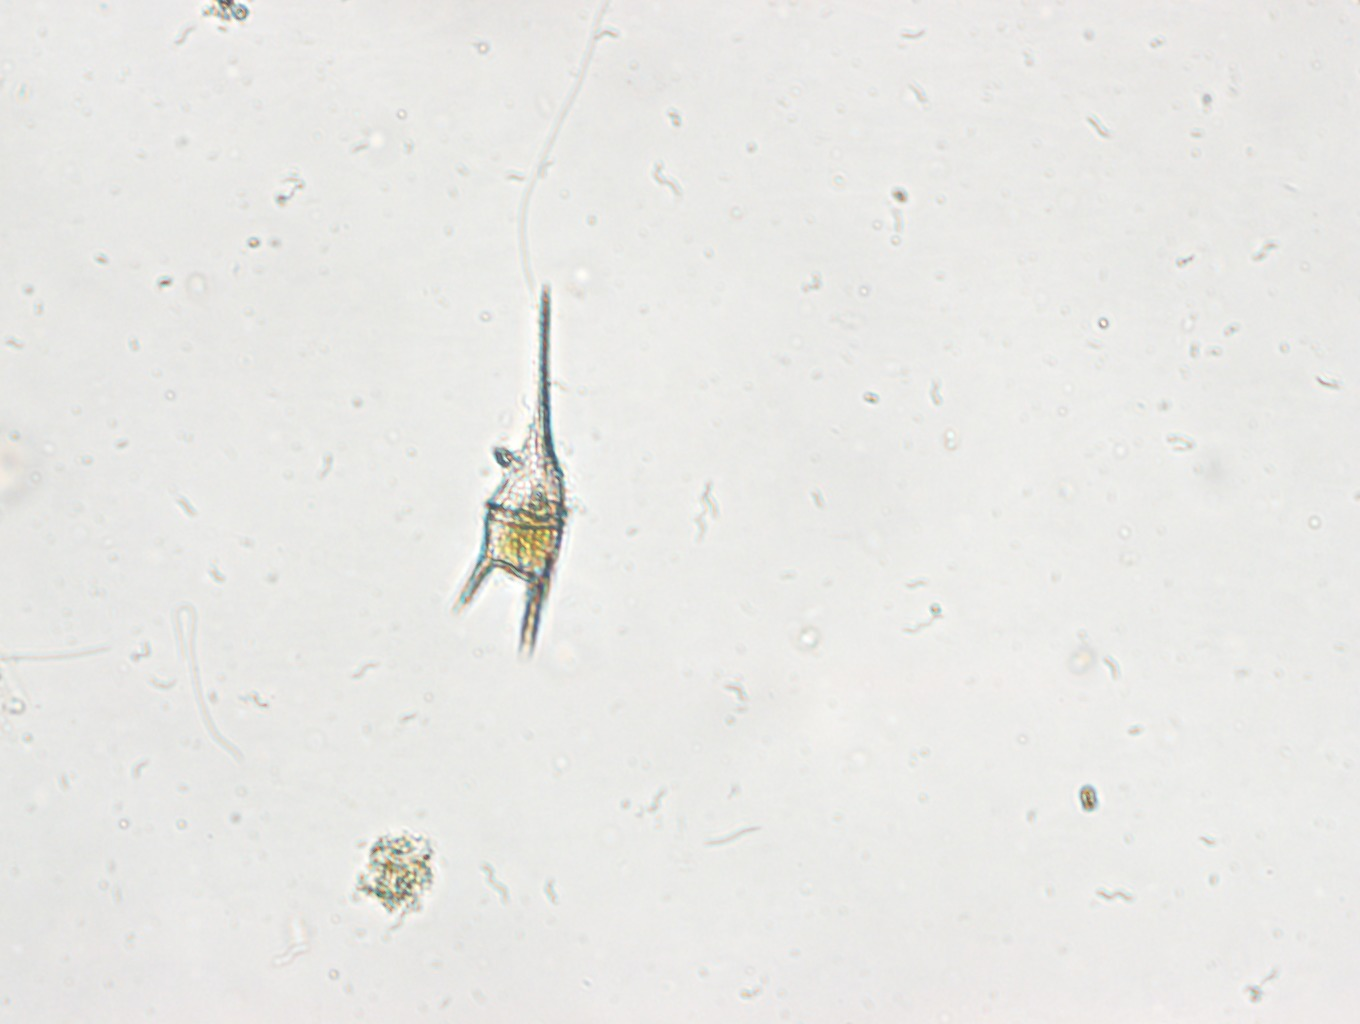ceratium furca: (450, 272, 576, 665)
